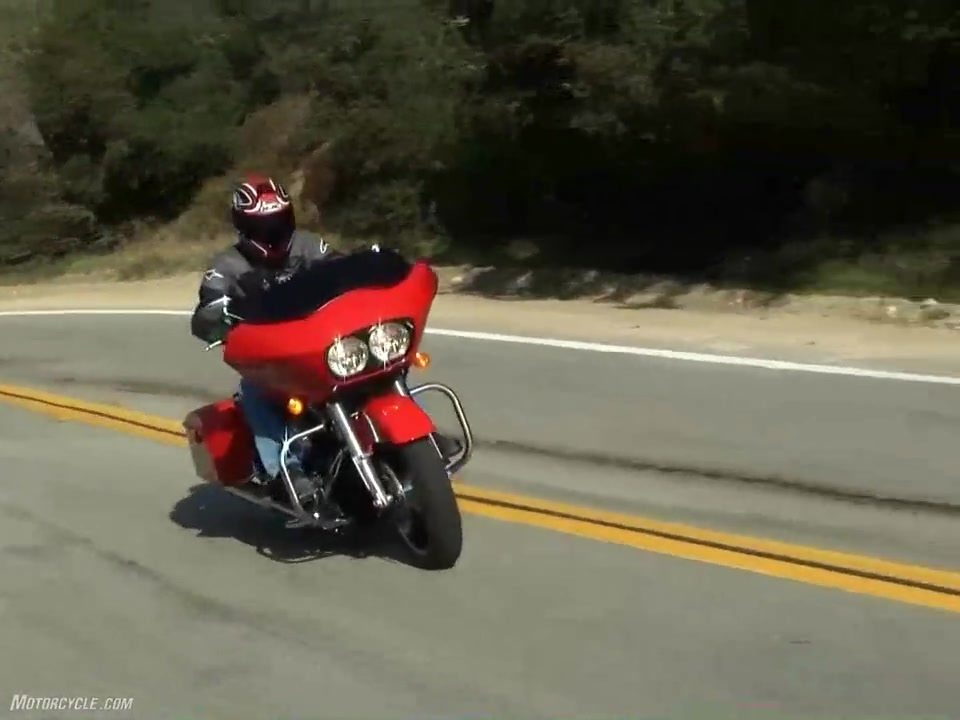motorbike: (184, 248, 480, 573)
